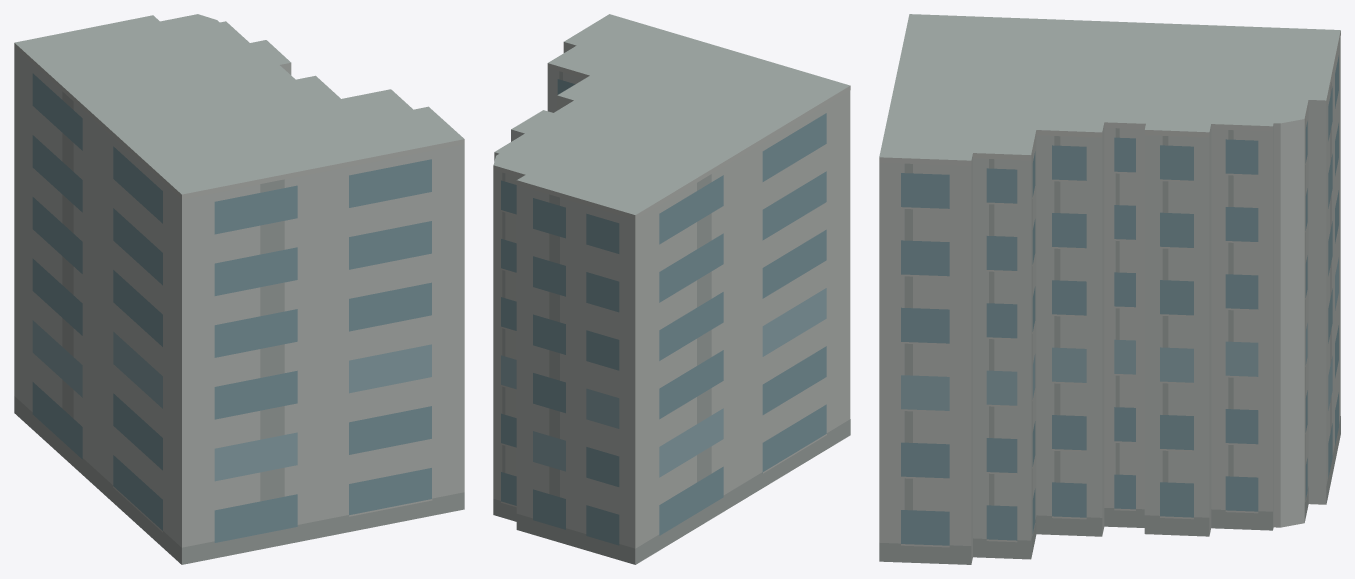
File: survey-upis-32754472.glb
3 views of the same model, side by side, from view 1: azimuth 30°, elevation 25°; view 2: azimuth 150°, elevation 25°; view 3: azimuth 270°, elevation 25° (orthographic). The views are drawn at different scales.
Visible parts, largest first — view 1: survey-upis-32754472.tmp; view 2: survey-upis-32754472.tmp; view 3: survey-upis-32754472.tmp.
Boxes of the visible parts, x1=… form: survey-upis-32754472.tmp: x1=14, y1=14, x2=464, y2=564; survey-upis-32754472.tmp: x1=493, y1=14, x2=850, y2=564; survey-upis-32754472.tmp: x1=879, y1=14, x2=1340, y2=564.
Size of the model in its own units: 14.24 by 18.3 by 18.95.
